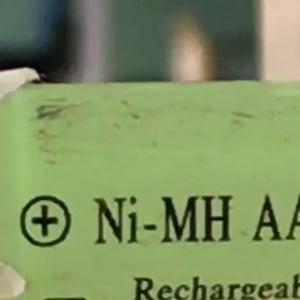NI-MH: (84, 185, 236, 254)
